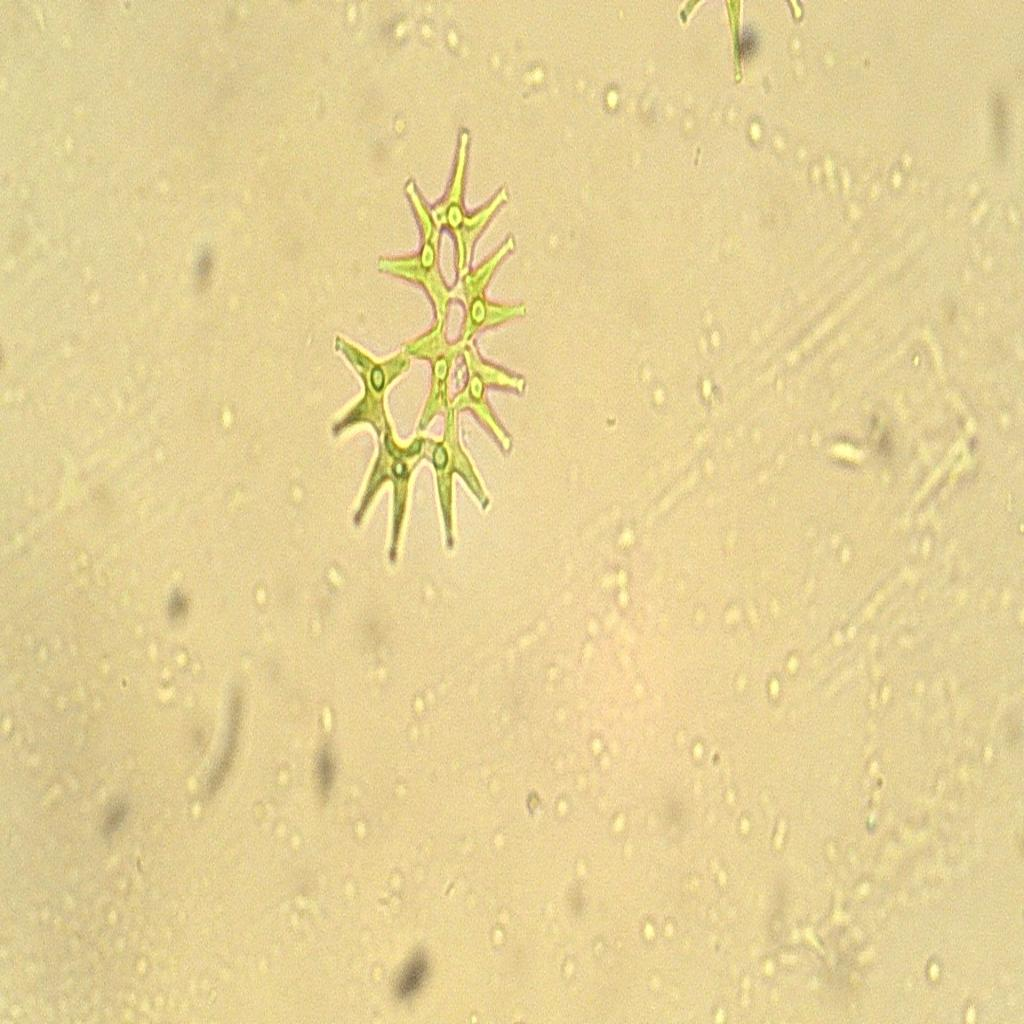Pediastrum_CFI: (323, 112, 534, 587)
